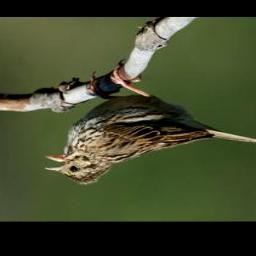Sparrow: (41, 59, 256, 186)
